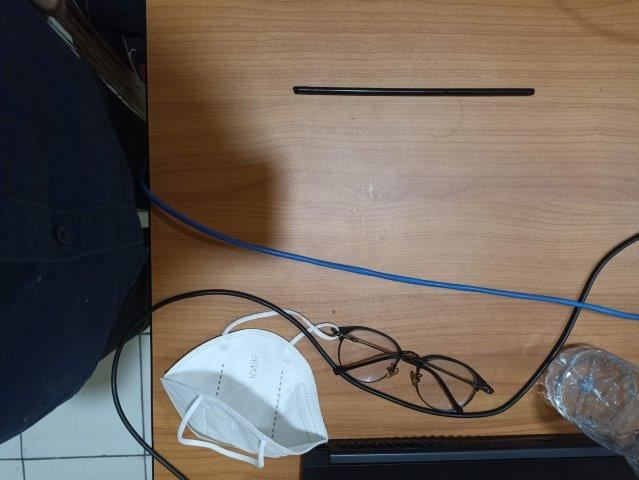sedotan: (293, 86, 535, 96)
